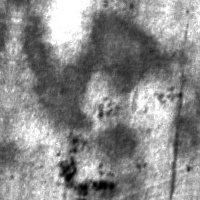inclusion: (53, 144, 117, 196)
patches: (12, 1, 177, 138), (88, 120, 145, 199)
